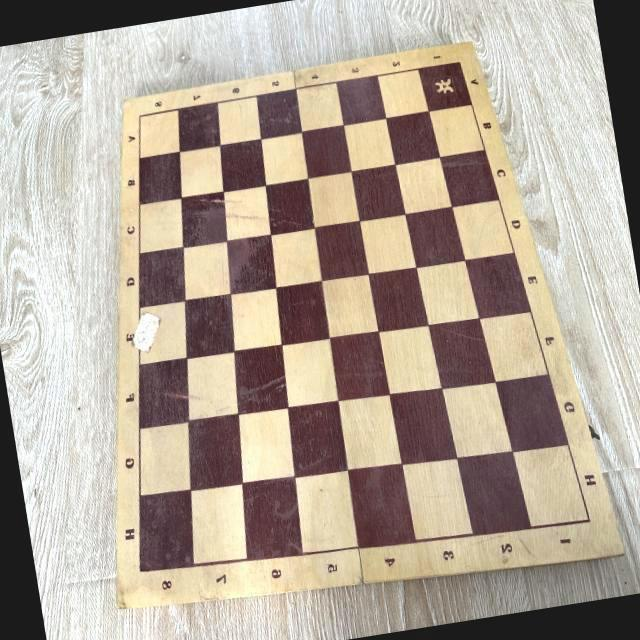chess-table-corners: (580, 504, 600, 537), (132, 558, 150, 582), (452, 54, 468, 71), (134, 109, 147, 124)
